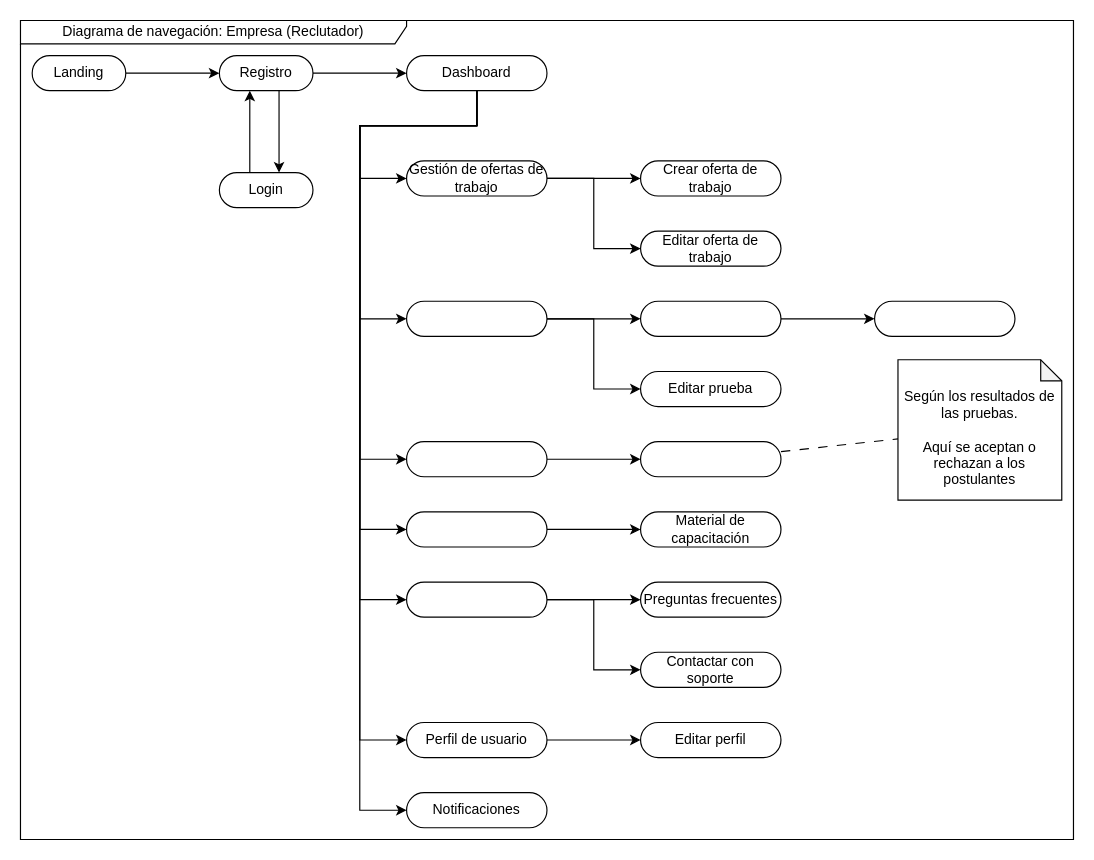
The diagram is 1094 pixels wide and 860 high, and some of its shapes have lost their labels. Each missing label, with the centre of its shape:
Capacitación: point 476,529
Clasificación de candidatos: point 710,459
Crear pruebas personalizadas: point 710,318
Evaluación de habilidades: point 476,459
Plantillas o IA: point 944,318
Solicitudes: point 476,318
Soporte: point 476,599
